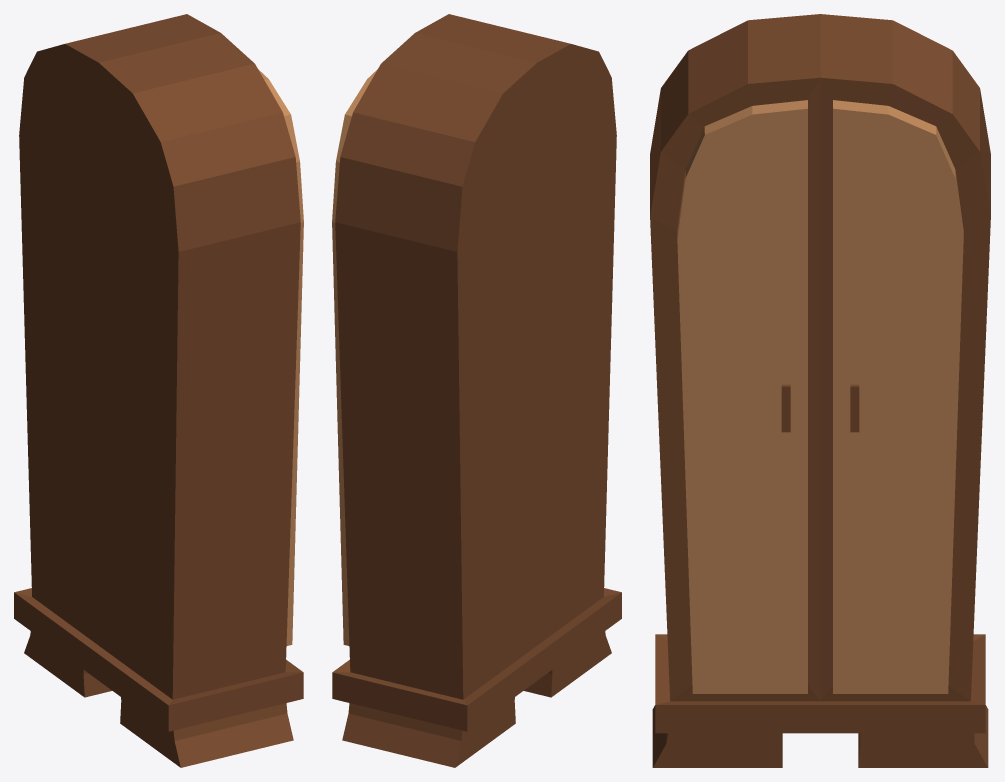
The model's file is Closet.glb.
3 views of the same model, side by side, from view 1: azimuth 30°, elevation 25°; view 2: azimuth 150°, elevation 25°; view 3: azimuth 270°, elevation 25° (orthographic). The views are drawn at different scales.
Bounding box in the file's own units: 0.3533 × 1.48 × 0.6605.
